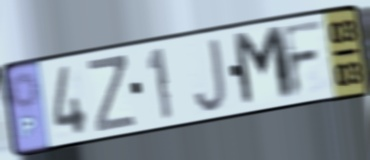1: (145, 44, 175, 125)
4: (51, 61, 89, 139)
F: (281, 16, 327, 101)
J: (192, 35, 229, 115)
M: (230, 22, 297, 111)
Z: (85, 53, 138, 136)
